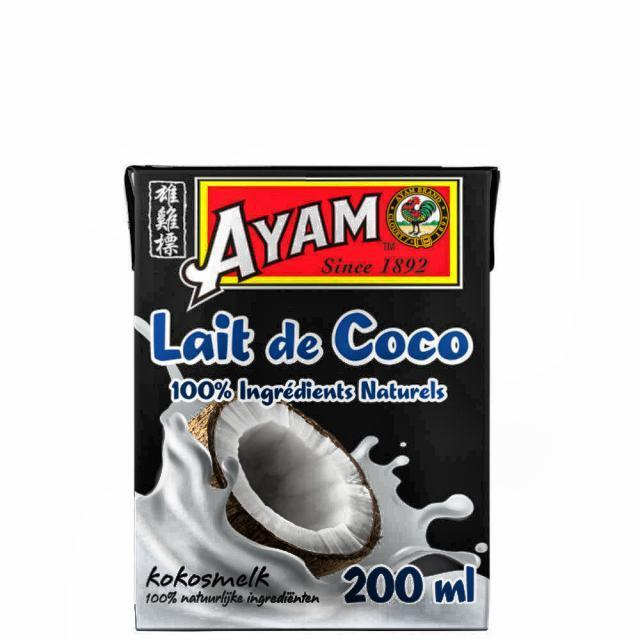cardboard: (124, 164, 498, 630)
